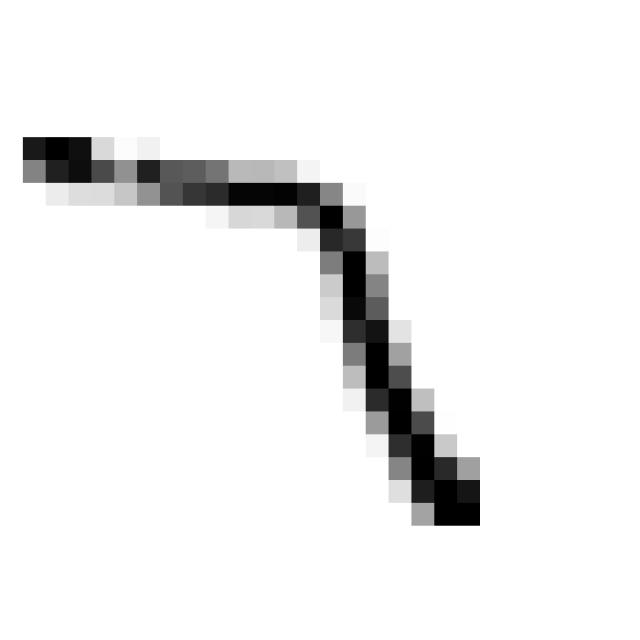6 -six-: (7, 117, 497, 551)
